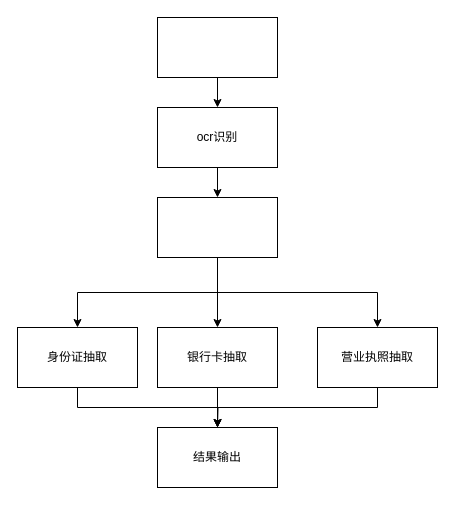
This 455x505 diagram has some shape labels left out. Each missing label, with the box of its shape:
从本地照片库选择图片: (156, 16, 278, 78)
分类: (156, 196, 278, 258)
